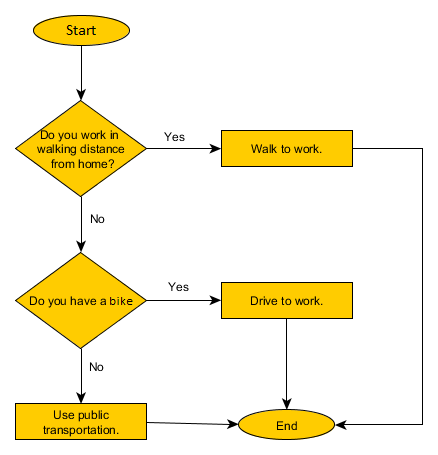arrow: (334, 143, 426, 432), (145, 417, 239, 430), (143, 142, 222, 155), (143, 294, 222, 306), (282, 319, 292, 409), (74, 46, 89, 101), (74, 345, 87, 403), (75, 194, 85, 250)
decision: (14, 252, 147, 350), (15, 100, 146, 197)
process: (12, 401, 150, 442), (219, 128, 355, 168), (219, 279, 355, 319)
terminator: (32, 14, 132, 46), (237, 409, 337, 440)
text: (38, 128, 125, 170), (38, 407, 120, 436), (28, 291, 134, 309), (250, 141, 322, 157), (248, 293, 324, 308), (65, 22, 97, 37), (165, 279, 192, 293), (161, 129, 187, 143), (273, 418, 299, 431), (86, 211, 106, 224), (87, 359, 104, 374)
